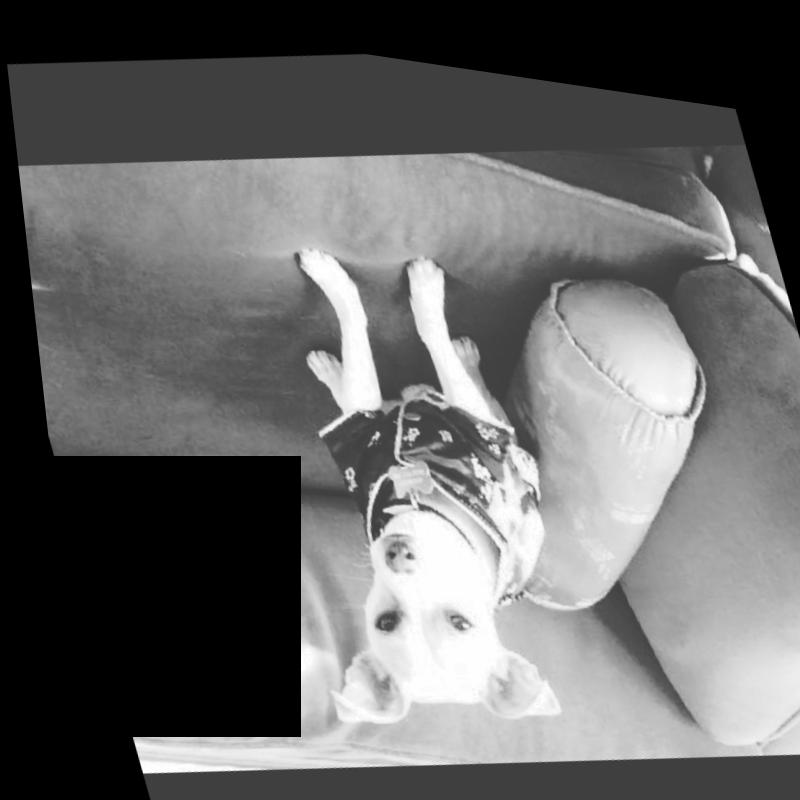pillow: (524, 209, 800, 751)
